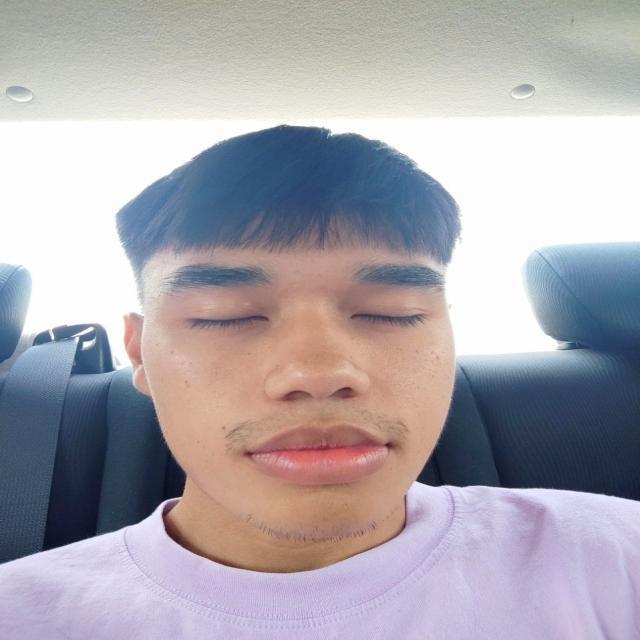sleepy: (160, 256, 453, 542)
